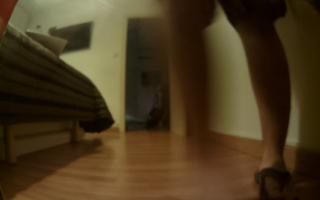person: (158, 1, 303, 200)
